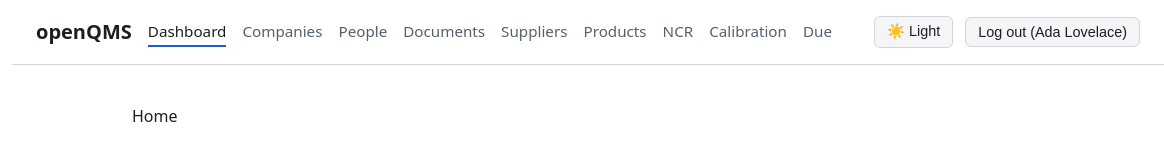
Scenario: Layout › shows the authenticated user's name and logs out on click
Step 1. Click the button "Log out (Ada Lovelace)" → click(1053, 32), box [965,16,1140,47]
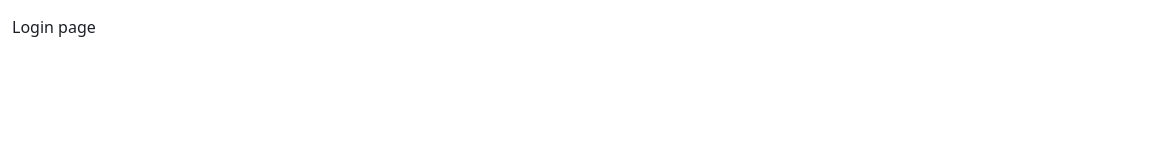
Now the text "Login page" is shown, box [12,16,96,38]
